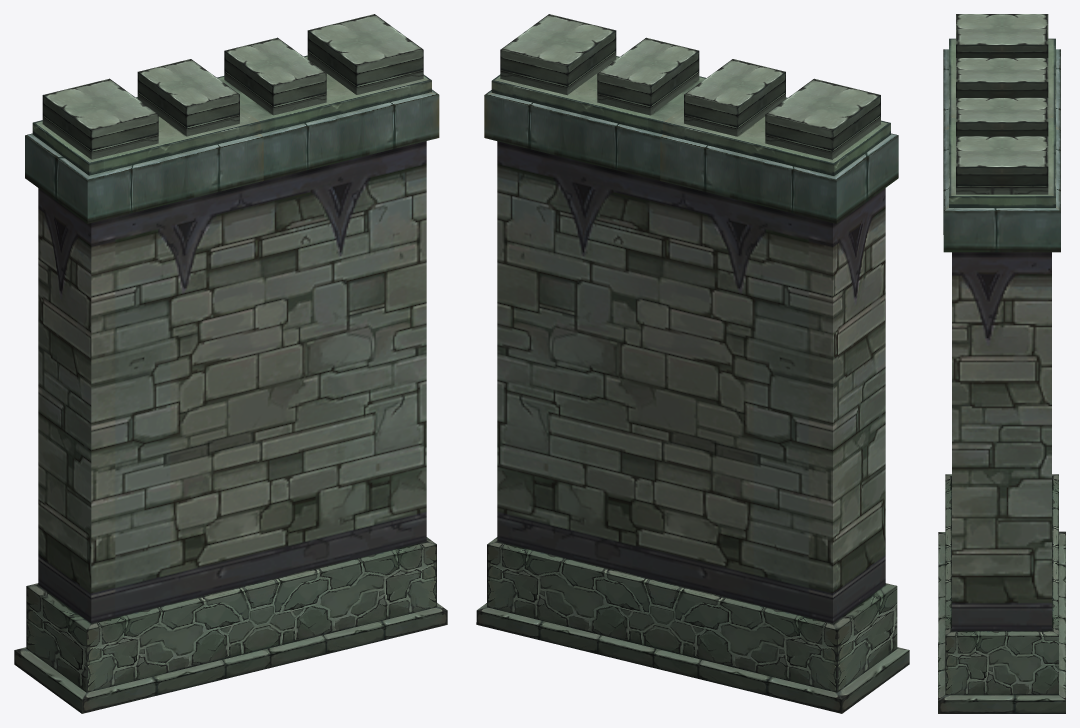
File: 2_YiZhan_WeiQiang_04.FBX
3 renders of one model, left to right at view 1: azimuth 30°, elevation 25°; view 2: azimuth 150°, elevation 25°; view 3: azimuth 270°, elevation 25°, orthographic. The views are drawn at different scales.
Parts seen in each view (by area): view 1: 2_YiZhan_WeiQiang_04_02, 2_YiZhan_WeiQiang_04_01; view 2: 2_YiZhan_WeiQiang_04_02, 2_YiZhan_WeiQiang_04_01; view 3: 2_YiZhan_WeiQiang_04_02, 2_YiZhan_WeiQiang_04_01.
Boxes of the visible parts, bbox=[...] form: 2_YiZhan_WeiQiang_04_02: bbox=[14, 141, 447, 713]; 2_YiZhan_WeiQiang_04_01: bbox=[25, 14, 439, 223]; 2_YiZhan_WeiQiang_04_02: bbox=[476, 141, 909, 713]; 2_YiZhan_WeiQiang_04_01: bbox=[484, 14, 898, 223]; 2_YiZhan_WeiQiang_04_02: bbox=[938, 252, 1065, 713]; 2_YiZhan_WeiQiang_04_01: bbox=[943, 14, 1060, 252].
Bounding box in the file's own units: 535 × 800 × 172.
Materials: 2 (2 with a texture image).
